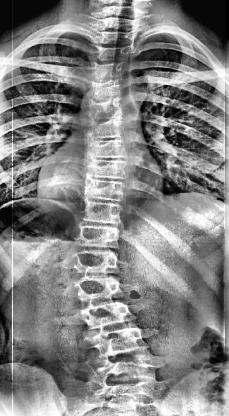Vertebrae: (83, 324, 150, 360), (91, 356, 160, 390), (69, 301, 135, 330), (67, 246, 124, 276), (76, 196, 130, 226), (77, 156, 138, 182), (78, 133, 136, 159), (80, 111, 130, 141), (69, 274, 122, 302), (76, 178, 132, 204), (72, 222, 128, 248), (85, 78, 129, 104), (83, 96, 127, 122), (84, 58, 126, 84), (92, 44, 136, 64), (96, 28, 144, 46)
